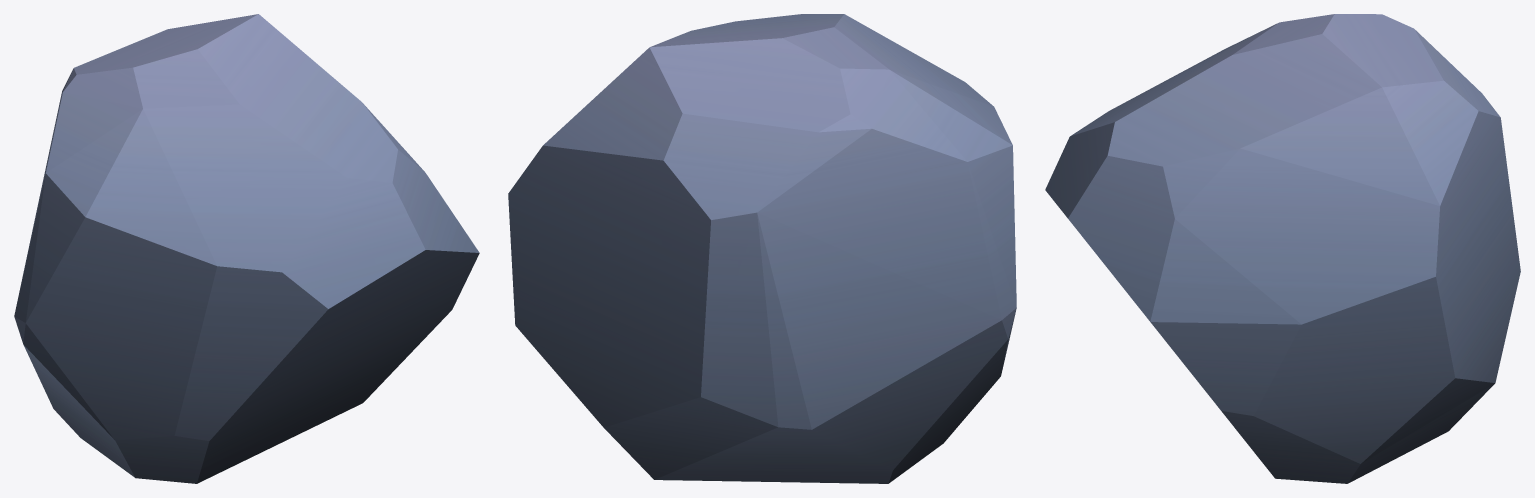
Rendered from Rock_2.fbx.
3 renders of one model, left to right at view 1: azimuth 30°, elevation 25°; view 2: azimuth 150°, elevation 25°; view 3: azimuth 270°, elevation 25°, orthographic. The views are drawn at different scales.
Parts seen in each view (by area): view 1: Rock 2; view 2: Rock 2; view 3: Rock 2.
Part boxes in pixels (x1=…): Rock 2: x1=14, y1=14, x2=479, y2=483; Rock 2: x1=508, y1=14, x2=1016, y2=483; Rock 2: x1=1045, y1=14, x2=1520, y2=483.
Size of the model in its own units: 184 by 163 by 187.
